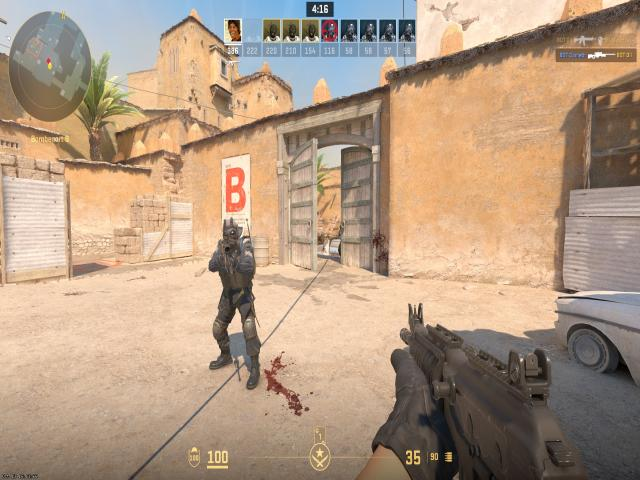CT: (216, 217, 258, 382)
CT-Head: (222, 219, 240, 245)
